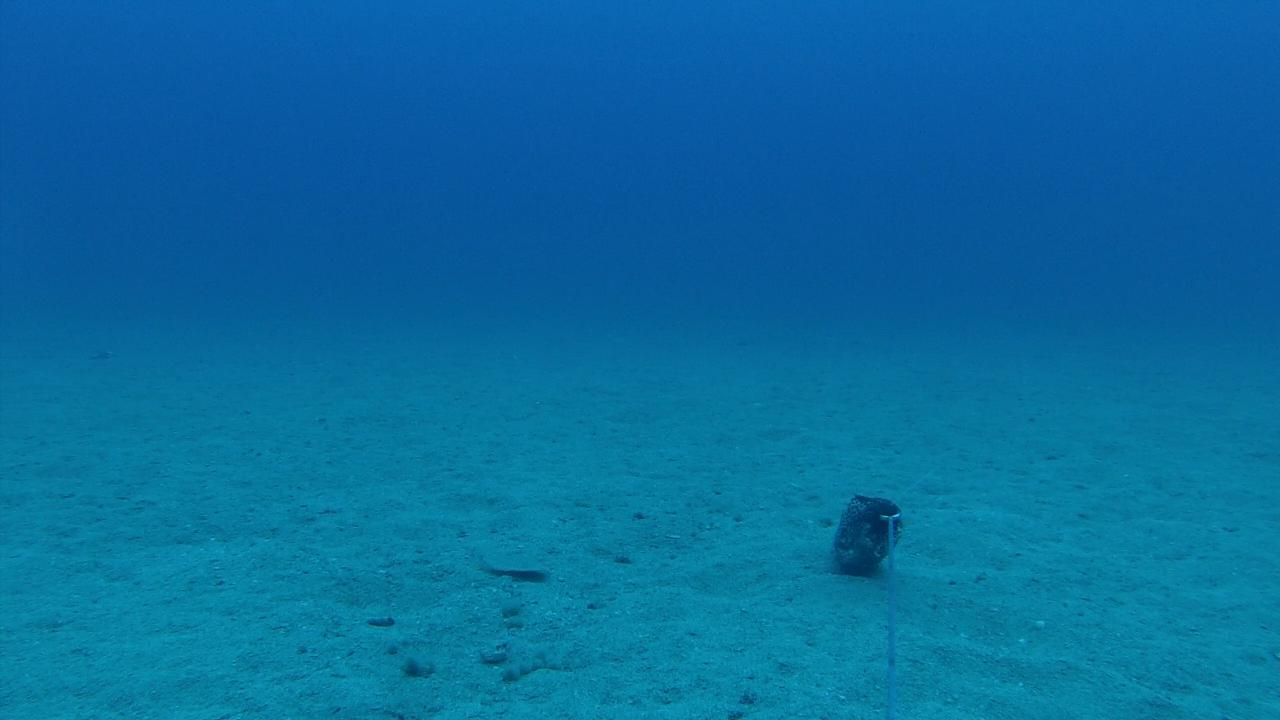bothus: (466, 535, 550, 583)
